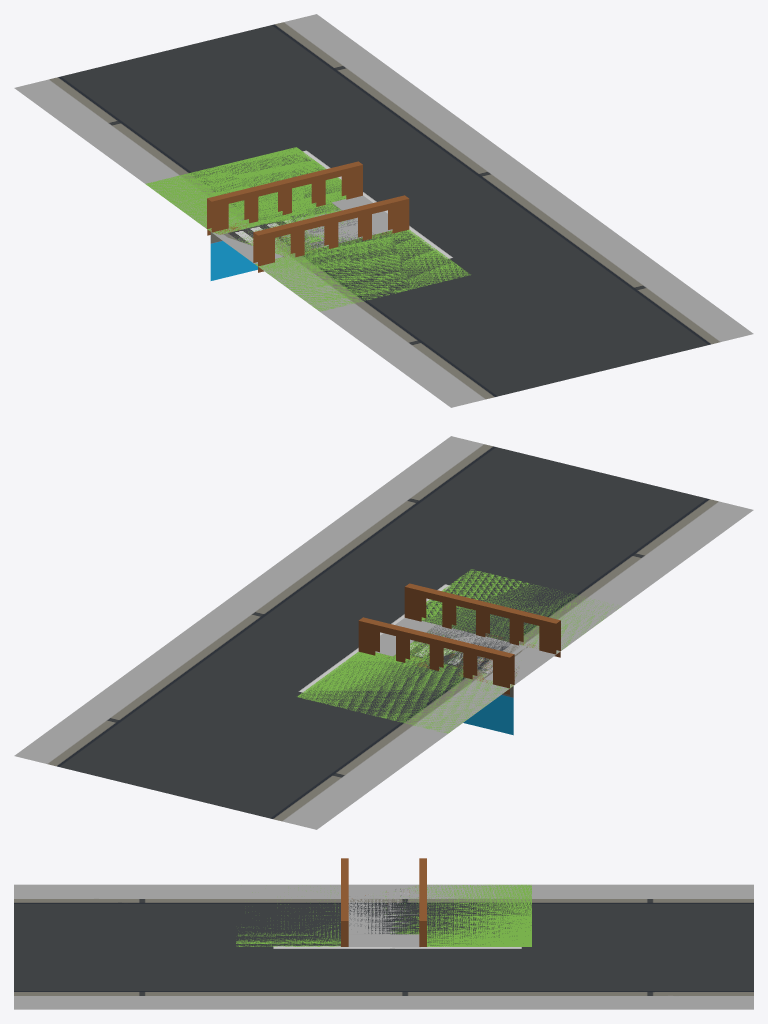
Rendered from map.FBX.
3 views of the same model, one above another, from view 1: azimuth 30°, elevation 25°; view 2: azimuth 150°, elevation 25°; view 3: azimuth 270°, elevation 25° (orthographic). The views are drawn at different scales.
Visible parts, largest first — view 1: Plane_00, plane_g01, plane_bridge, plane_s01, plane_s02; view 2: Plane_00, plane_g01, plane_bridge, plane_s01, plane_s02; view 3: Plane_00, plane_g01, plane_s01, plane_s02, plane_bridge.
Part boxes in pixels (x1,y1,x2,y2): Plane_00: (14, 14, 753, 407); plane_g01: (145, 147, 470, 311); plane_bridge: (207, 161, 409, 272); plane_s01: (210, 204, 373, 280); plane_s02: (212, 195, 392, 263); Plane_00: (14, 436, 753, 829); plane_g01: (297, 569, 620, 733); plane_bridge: (358, 583, 560, 694); plane_s01: (413, 624, 526, 735); plane_s02: (375, 618, 556, 684); Plane_00: (14, 884, 753, 1009); plane_g01: (236, 884, 531, 946); plane_s01: (348, 887, 418, 934); plane_s02: (348, 884, 420, 947); plane_bridge: (341, 858, 426, 946).
Size of the model in its own units: 8 by 2.03 by 20.
